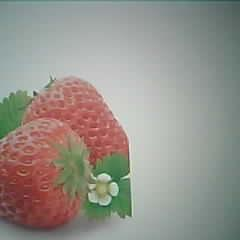straw-ripe: (0, 119, 89, 227)
